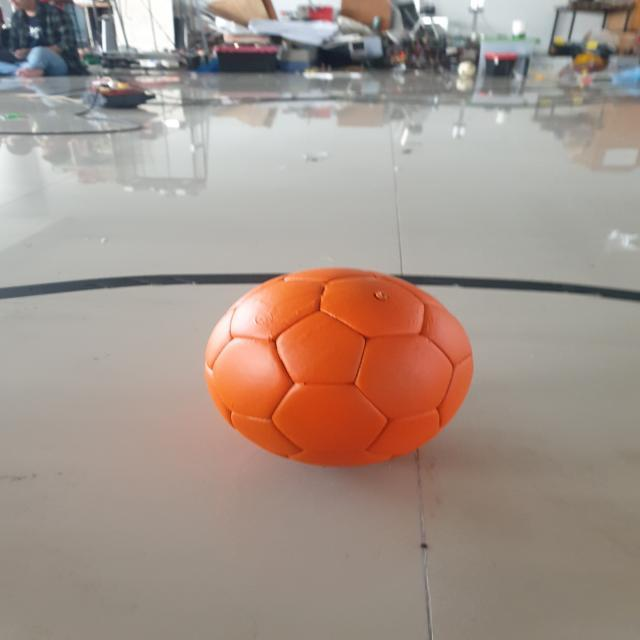bola: (199, 259, 483, 475)
